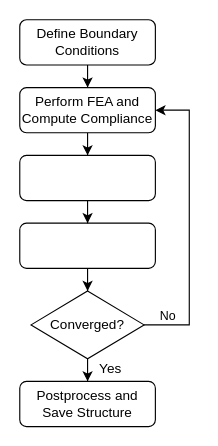
The diagram is 218 pixels wide and 446 high, and some of its shapes have lost their labels. Each missing label, with the centre of its shape:
"Filter sensitivities/densities" belongs at [87,245].
"Perform Sensitivity Analysis" belongs at [87,177].
